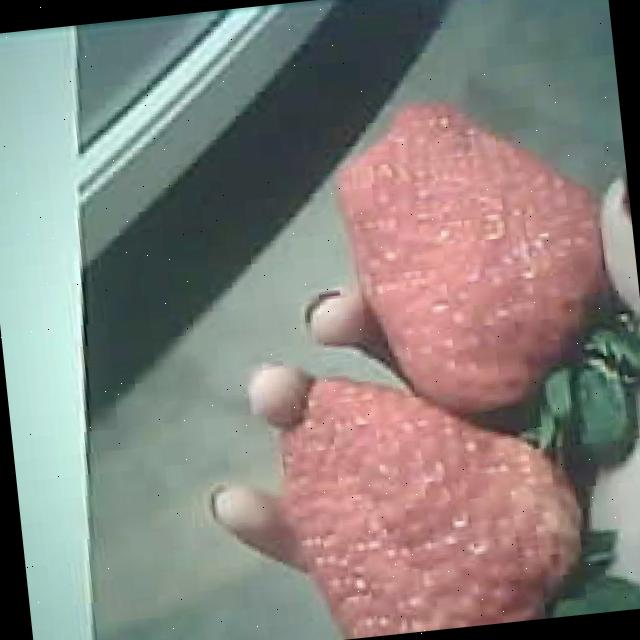strawberry: (330, 87, 622, 427), (267, 354, 589, 640)
